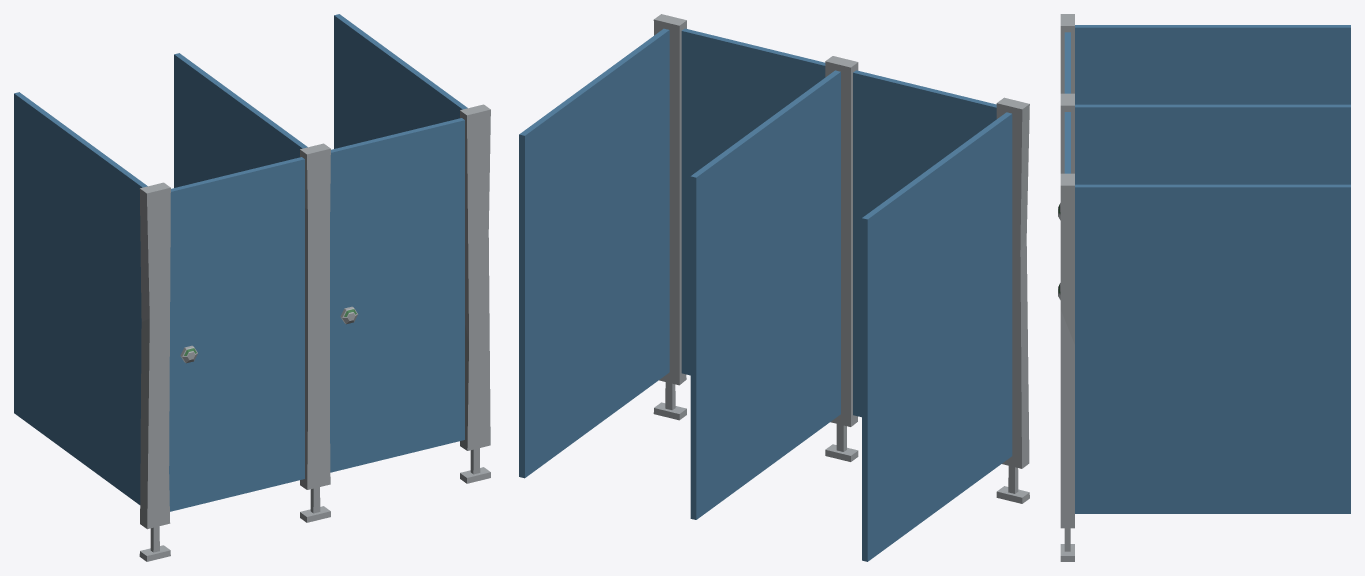
Rendered from ToiletStalls_01.FBX.
3 renders of one model, left to right at view 1: azimuth 30°, elevation 25°; view 2: azimuth 150°, elevation 25°; view 3: azimuth 270°, elevation 25°, orthographic. The views are drawn at different scales.
Visible parts, largest first — view 1: ToiletStalls_01; view 2: ToiletStalls_01; view 3: ToiletStalls_01.
Boxes of the visible parts, left/top/right/bottom form: ToiletStalls_01: left=14, top=14, right=490, bottom=561; ToiletStalls_01: left=519, top=14, right=1029, bottom=561; ToiletStalls_01: left=1058, top=14, right=1350, bottom=561.
Bounding box in the file's own units: 215 × 220 × 155.
